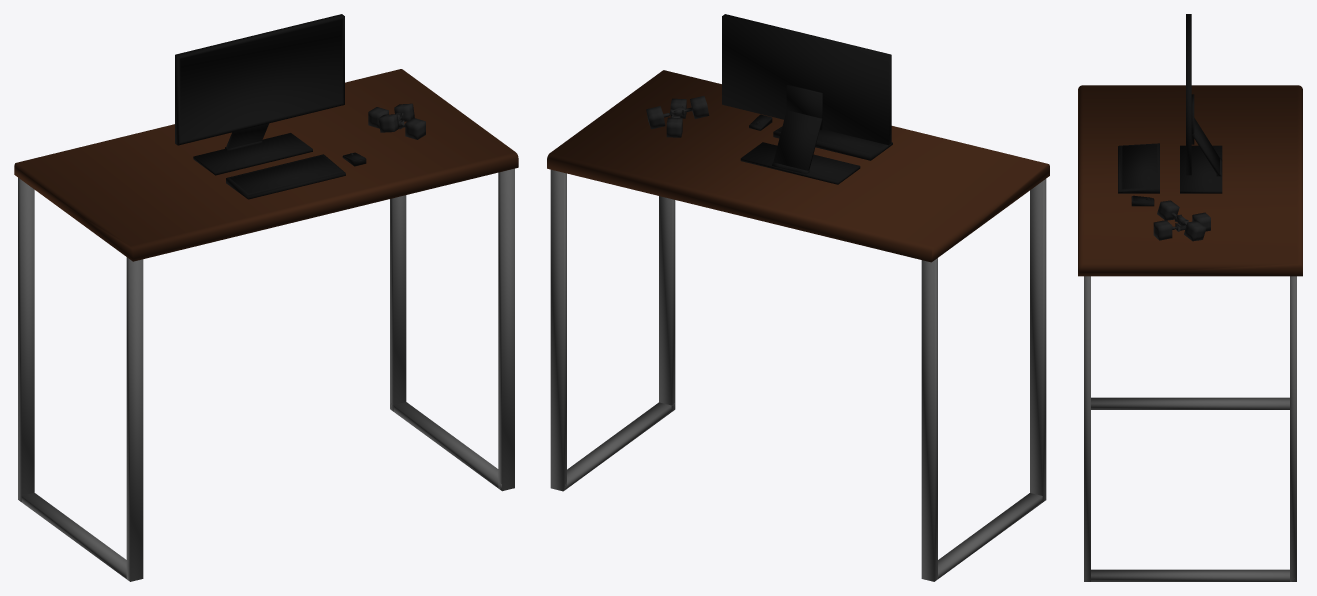
Rendered from TableComp.obj.
The picture shows the model from 3 angles, left to right: view 1: azimuth 30°, elevation 25°; view 2: azimuth 150°, elevation 25°; view 3: azimuth 270°, elevation 25°; orthographic projection. The views are drawn at different scales.
Visible parts, largest first — view 1: Tabletop001, Monitor001, tableleg002, tableleg004, tableleg001, tableleg003, Keyboard001, Base001, tablesupport002, tablesupport001, Box004, Box001; view 2: Tabletop001, Monitor001, tableleg001, tableleg003, tableleg002, tableleg004, Box002, tablesupport002, tablesupport001, Base001, Keyboard001, Box003 (+1 smaller); view 3: Tabletop001, tablesupport002, tablesupport001, tableleg003, tableleg004, Keyboard001, Base001, Monitor001, Box001, Box004, Box002.
Part boxes in pixels (x1,y1,x2,y2): Tabletop001: [14, 69, 518, 261]; Monitor001: [175, 14, 344, 145]; tableleg002: [126, 257, 143, 581]; tableleg004: [498, 168, 514, 491]; tableleg001: [18, 177, 34, 501]; tableleg003: [390, 195, 406, 411]; Keyboard001: [226, 154, 345, 199]; Base001: [193, 133, 312, 175]; tablesupport002: [390, 402, 501, 490]; tablesupport001: [21, 492, 126, 578]; Box004: [368, 107, 425, 139]; Box001: [378, 103, 414, 132]; Tabletop001: [547, 70, 1049, 262]; Monitor001: [722, 14, 891, 145]; tableleg001: [921, 258, 937, 581]; tableleg003: [550, 169, 566, 491]; tableleg002: [1030, 179, 1046, 502]; tableleg004: [659, 196, 675, 411]; Box002: [773, 110, 822, 170]; tablesupport002: [563, 402, 675, 490]; tablesupport001: [938, 493, 1042, 578]; Base001: [740, 142, 860, 184]; Keyboard001: [773, 126, 892, 160]; Box003: [786, 84, 822, 130]; Tabletop001: [1078, 85, 1302, 276]; tablesupport002: [1085, 569, 1295, 581]; tablesupport001: [1091, 397, 1289, 409]; tableleg003: [1290, 276, 1296, 581]; tableleg004: [1084, 276, 1090, 581]; Keyboard001: [1118, 143, 1159, 193]; Base001: [1180, 145, 1222, 193]; Monitor001: [1186, 14, 1191, 175]; Box001: [1157, 200, 1206, 241]; Box004: [1153, 212, 1210, 240]; Box002: [1192, 118, 1220, 176].
Size of the model in its own units: 150 by 171 by 80.
